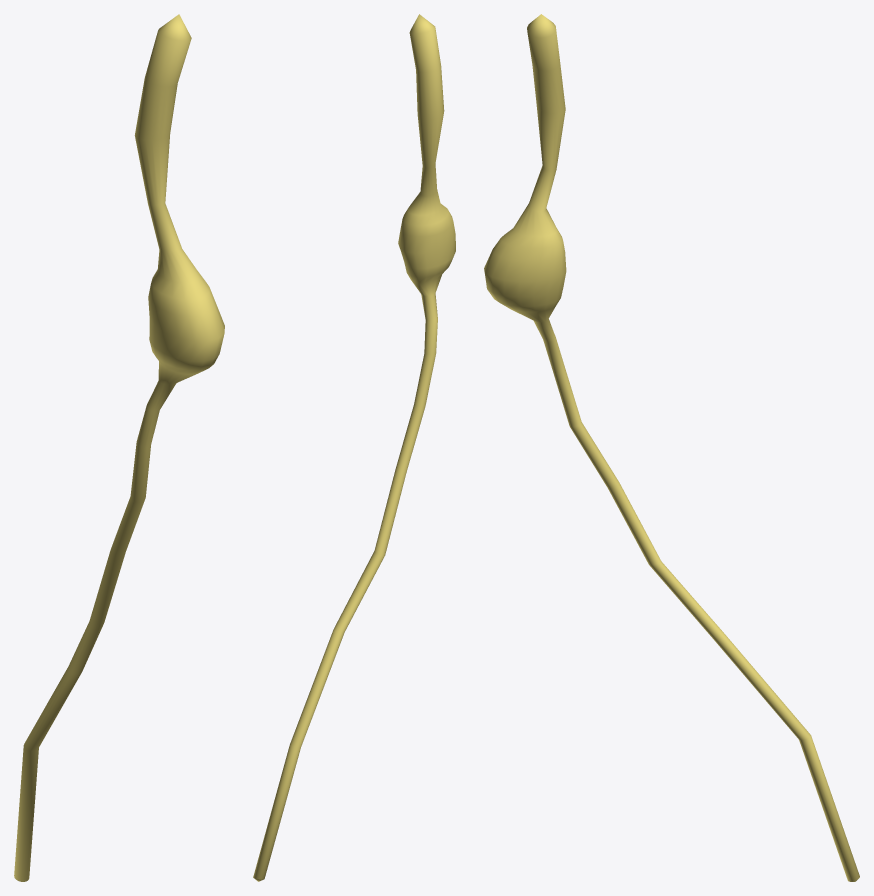
The model's file is sensory-root-of-trigeminal-nerve-r.glb.
3 renders of one model, left to right at view 1: azimuth 30°, elevation 25°; view 2: azimuth 150°, elevation 25°; view 3: azimuth 270°, elevation 25°, orthographic. The views are drawn at different scales.
Parts seen in each view (by area): view 1: Sensory root of trigeminal nerve.r; view 2: Sensory root of trigeminal nerve.r; view 3: Sensory root of trigeminal nerve.r.
Boxes of the visible parts, x1=… form: Sensory root of trigeminal nerve.r: x1=14, y1=14, x2=224, y2=881; Sensory root of trigeminal nerve.r: x1=253, y1=14, x2=455, y2=881; Sensory root of trigeminal nerve.r: x1=484, y1=14, x2=859, y2=881.
Size of the model in its own units: 0.00482 by 0.0671 by 0.0267.
